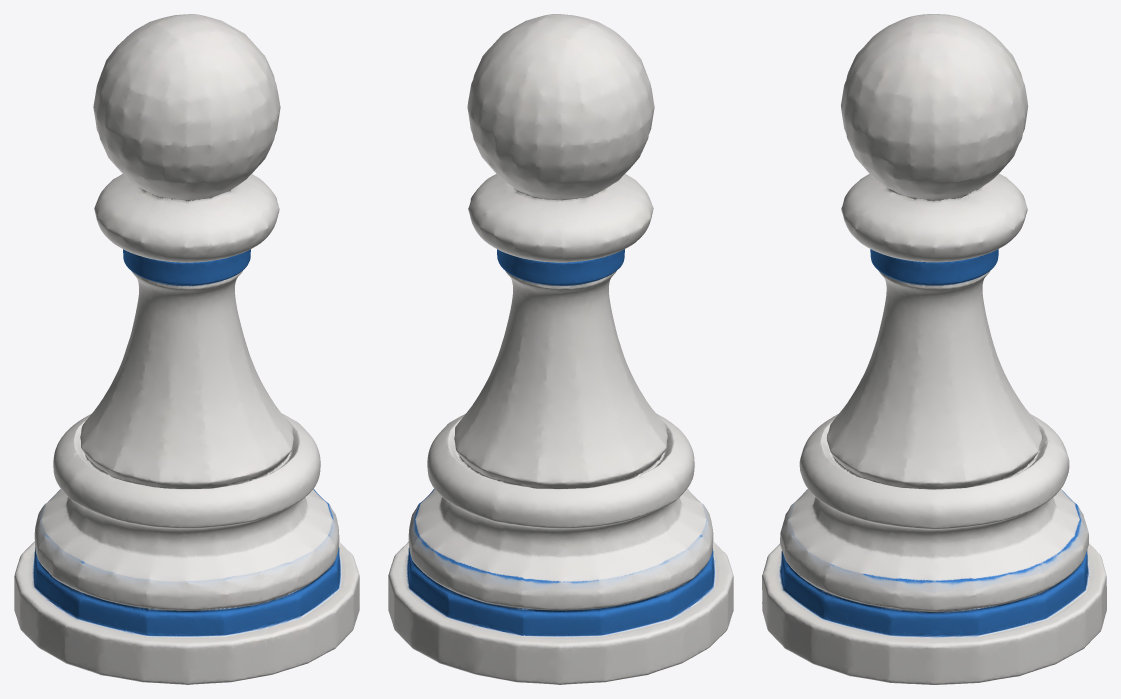
The model's file is pawn.glb.
The picture shows the model from 3 angles, left to right: view 1: azimuth 30°, elevation 25°; view 2: azimuth 150°, elevation 25°; view 3: azimuth 270°, elevation 25°; orthographic projection.
Bounding box in the file's own units: 1 × 1.9 × 1.
1 material, 1 textured.
